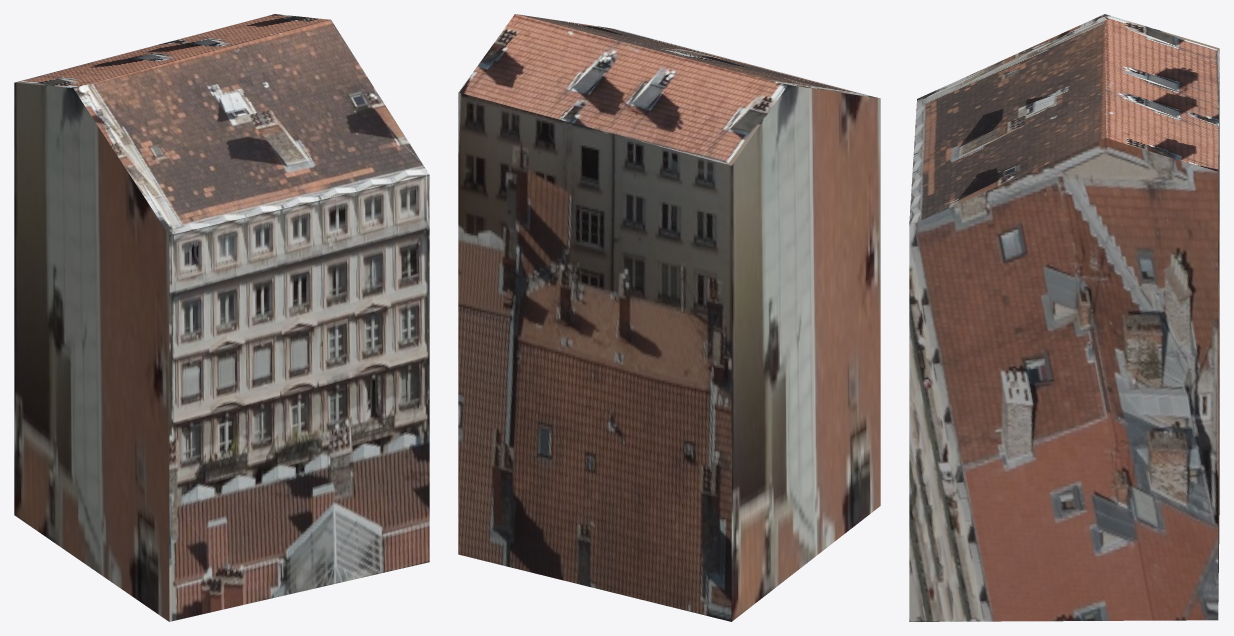
3 views of the same model, side by side, from view 1: azimuth 30°, elevation 25°; view 2: azimuth 150°, elevation 25°; view 3: azimuth 270°, elevation 25° (orthographic). The views are drawn at different scales.
Parts seen in each view (by area): view 1: Z_UP; view 2: Z_UP; view 3: Z_UP.
Part boxes in pixels (x1,y1,x2,y2): Z_UP: [14, 14, 429, 621]; Z_UP: [458, 14, 880, 621]; Z_UP: [909, 14, 1219, 621].
Size of the model in its own units: 16.48 by 28.25 by 16.47.
Materials: 2 (1 with a texture image).
